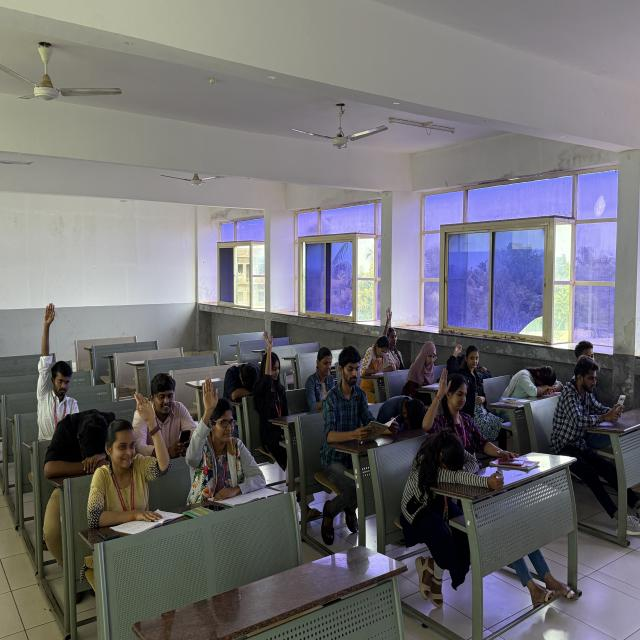Hand Rising: (82, 390, 176, 606), (32, 313, 78, 495), (186, 375, 245, 508), (419, 369, 492, 446), (254, 326, 291, 449), (376, 288, 408, 368), (447, 344, 489, 386)
Reading: (317, 344, 385, 549), (404, 338, 442, 392), (362, 334, 394, 388)
Sleeping: (42, 408, 116, 594), (407, 422, 475, 570), (496, 365, 560, 420), (221, 360, 264, 408), (376, 395, 421, 432)
Using Phone: (140, 353, 199, 459), (557, 354, 630, 430)
